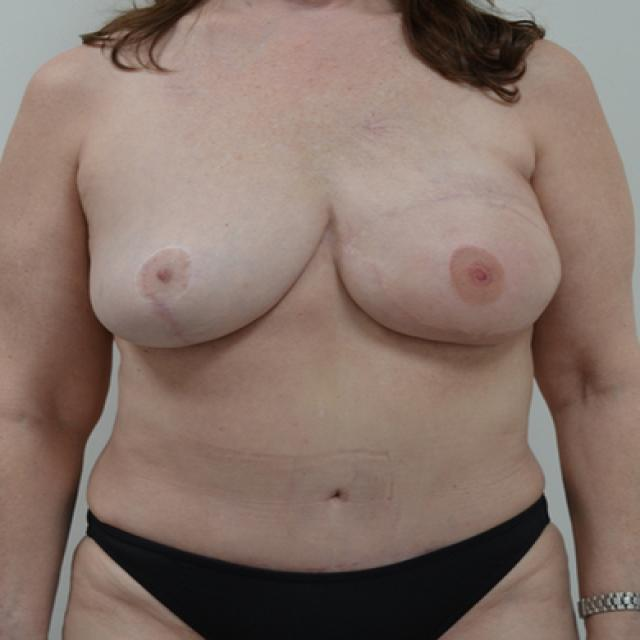Seno herido: (80, 160, 329, 361), (332, 160, 570, 361)
